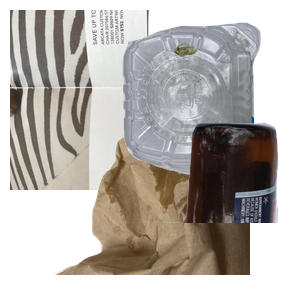glass: (87, 120, 300, 300)
paper: (10, 10, 250, 190)
plastic: (119, 20, 300, 190)
trash: (52, 120, 292, 300)
